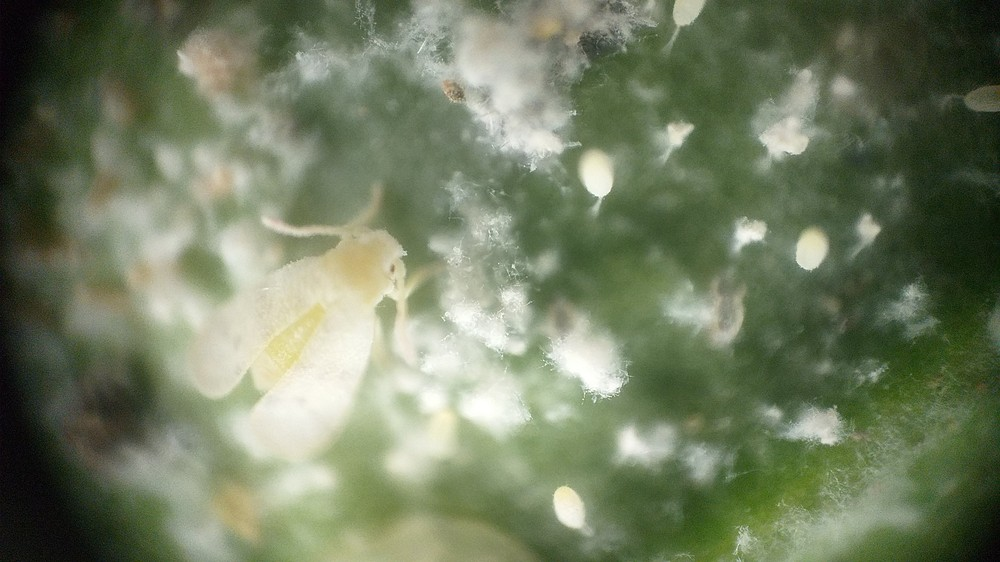Mosca Blanca: (177, 205, 448, 467)
